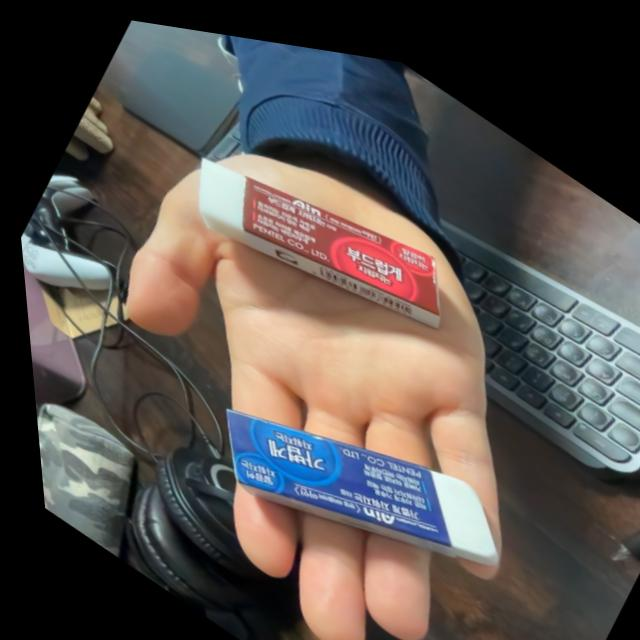blue: (176, 316, 526, 634)
red: (159, 92, 471, 368)
